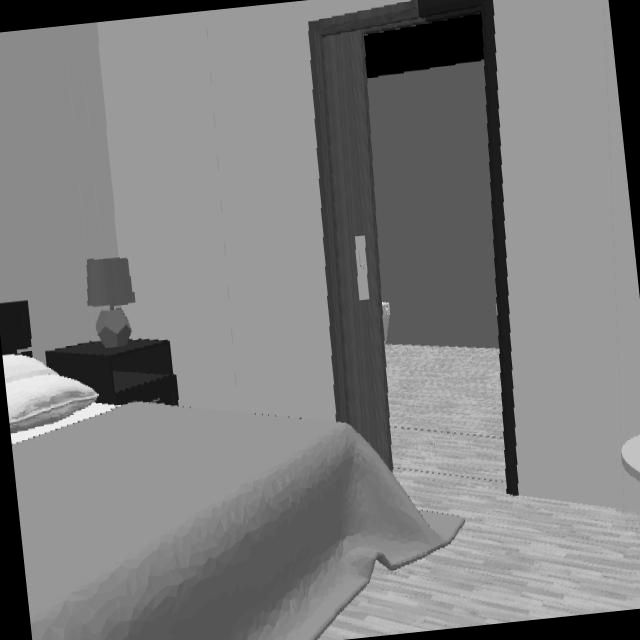bed: (0, 303, 463, 640)
lamp: (88, 259, 134, 347)
nighttable: (46, 338, 177, 403)
table: (621, 436, 640, 480)
